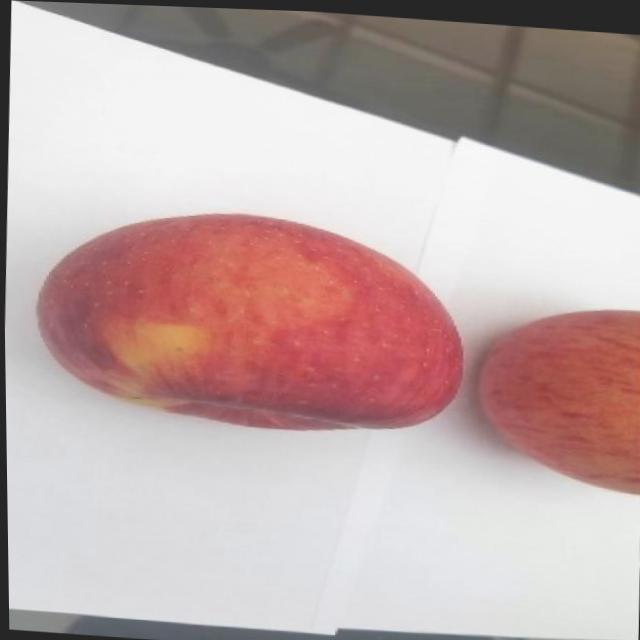Apple: (24, 198, 466, 442), (468, 293, 640, 493)
